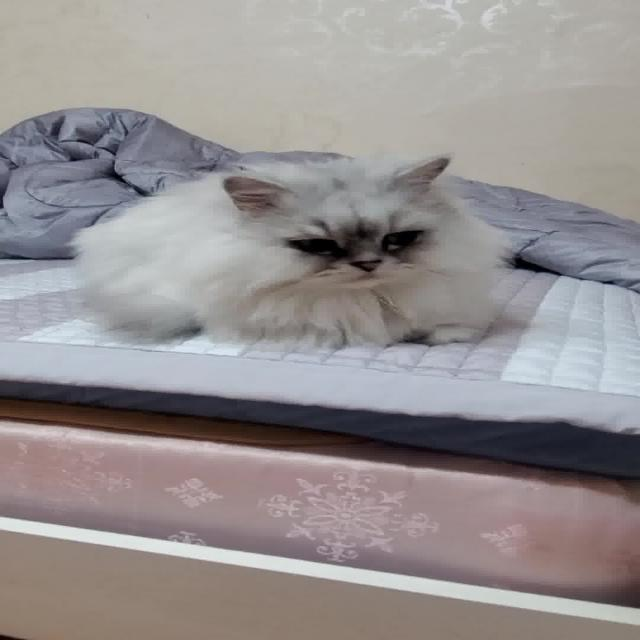cat: (50, 149, 542, 357)
